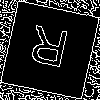R: (25, 25, 72, 78)
